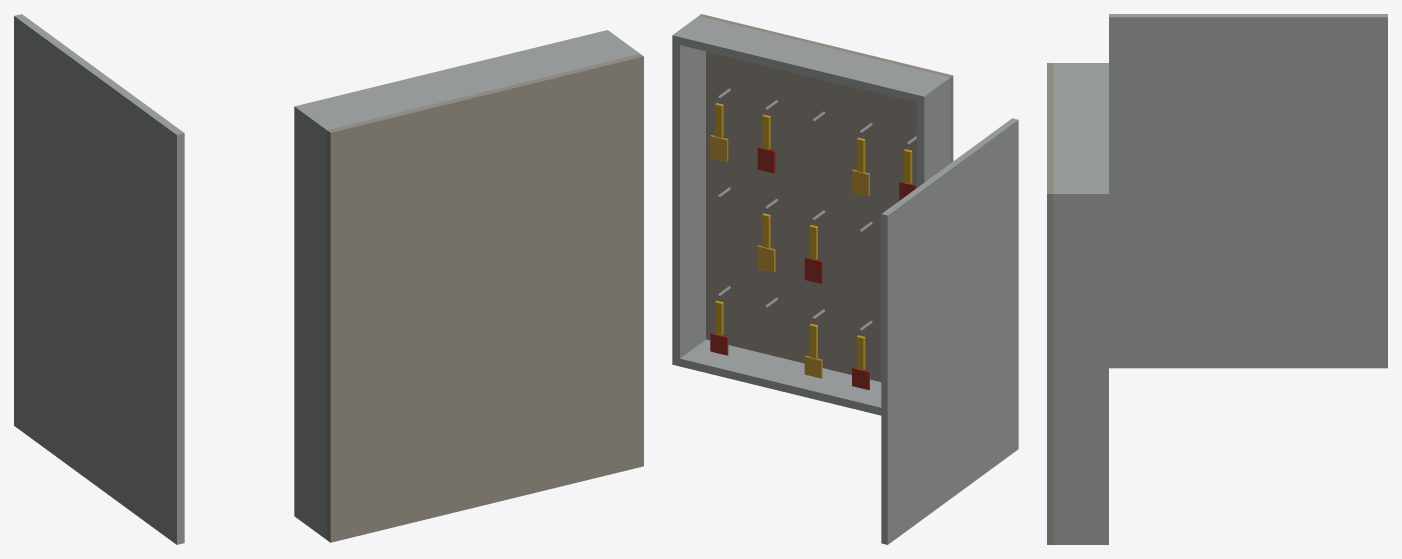
The model's file is prop_ah_key_hooks.glb.
3 views of the same model, side by side, from view 1: azimuth 30°, elevation 25°; view 2: azimuth 150°, elevation 25°; view 3: azimuth 270°, elevation 25° (orthographic). The views are drawn at different scales.
Parts seen in each view (by area): view 1: Body; view 2: Body; view 3: Body.
Part boxes in pixels (x1,y1,x2,y2): Body: (14,14,643,544); Body: (672,14,1018,544); Body: (1047,14,1387,544).
Size of the model in its own units: 0.55 by 0.5 by 0.44.
